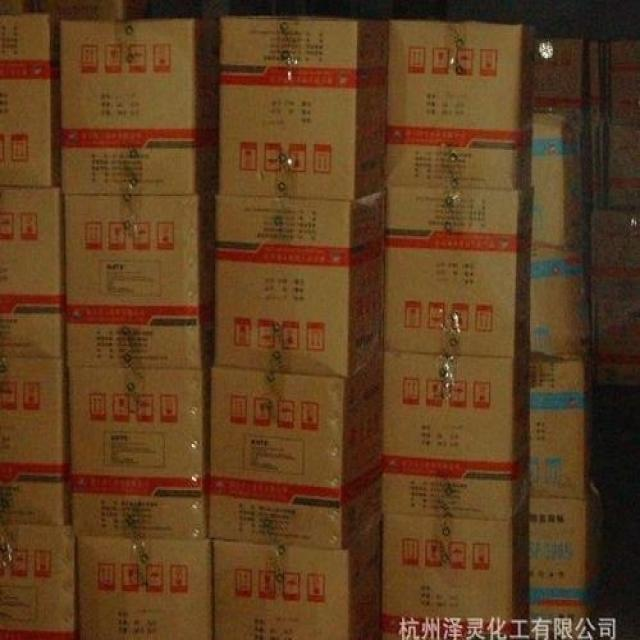box: (207, 350, 385, 548), (212, 189, 385, 377), (219, 18, 389, 199), (385, 19, 535, 189), (381, 350, 530, 518), (385, 187, 531, 356), (63, 193, 201, 367), (68, 368, 206, 539), (60, 19, 195, 193), (380, 490, 530, 640), (211, 511, 381, 640), (74, 538, 211, 640), (0, 356, 65, 526), (0, 186, 63, 359), (0, 13, 60, 189), (529, 487, 596, 640), (531, 352, 595, 497), (0, 524, 76, 640), (530, 242, 591, 359), (530, 111, 582, 246)
